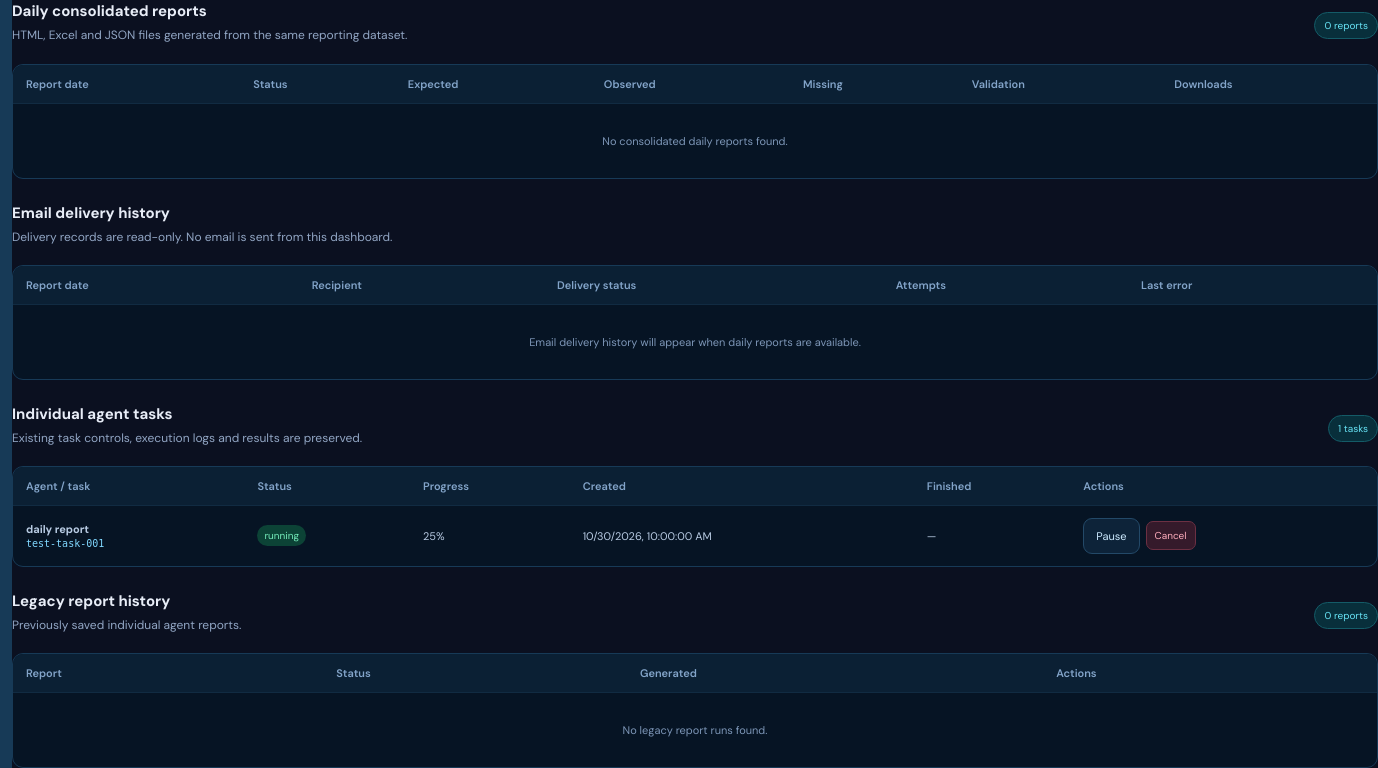
Test: AgentMonitoring › cancels a running task after confirmation
The image size is (1378, 768).
(page scrolled)
Expected: the text "test-task-001" is shown, [26,538,104,549]
Click the button "Cancel". click: (1170, 536)
box: [1146,521,1196,550]
(page scrolled)
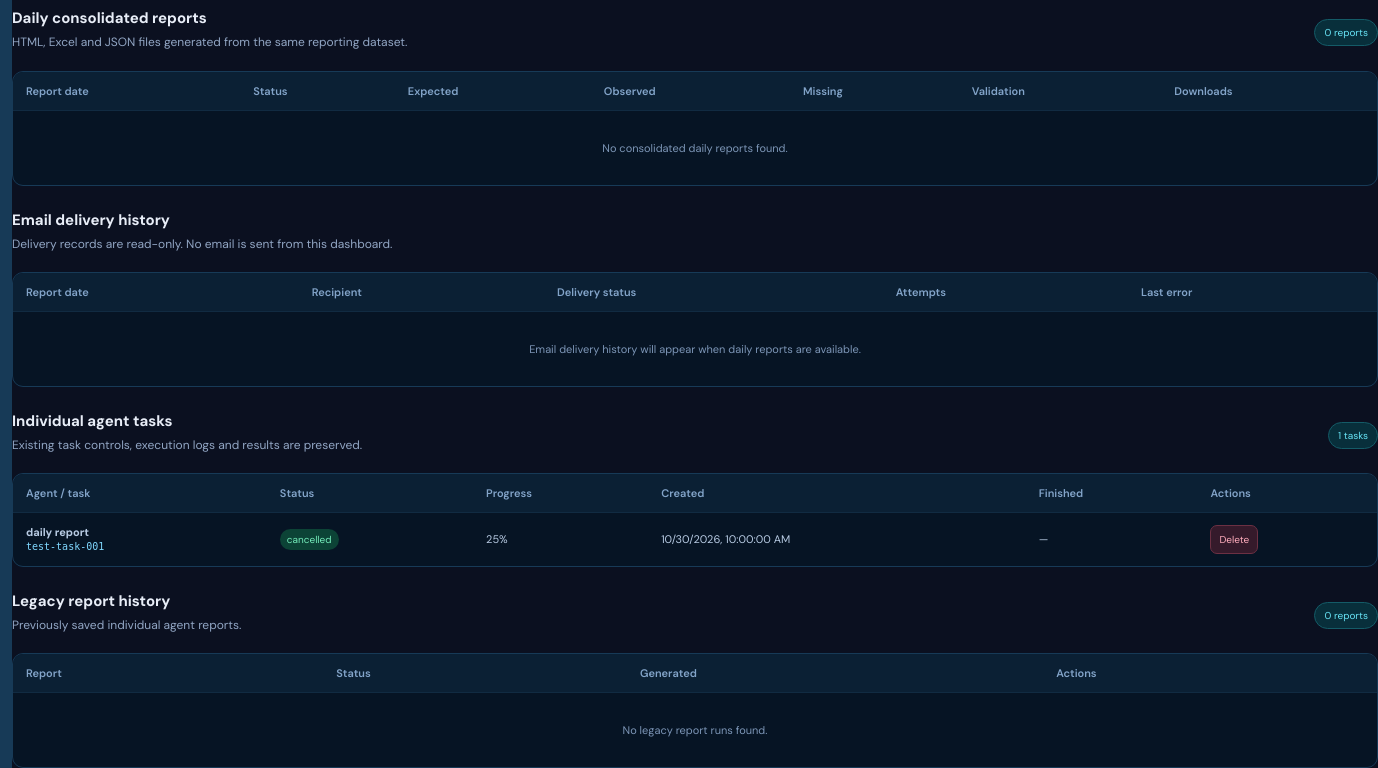
Expected: the text "cancelled" is shown, [280,529,338,550]
